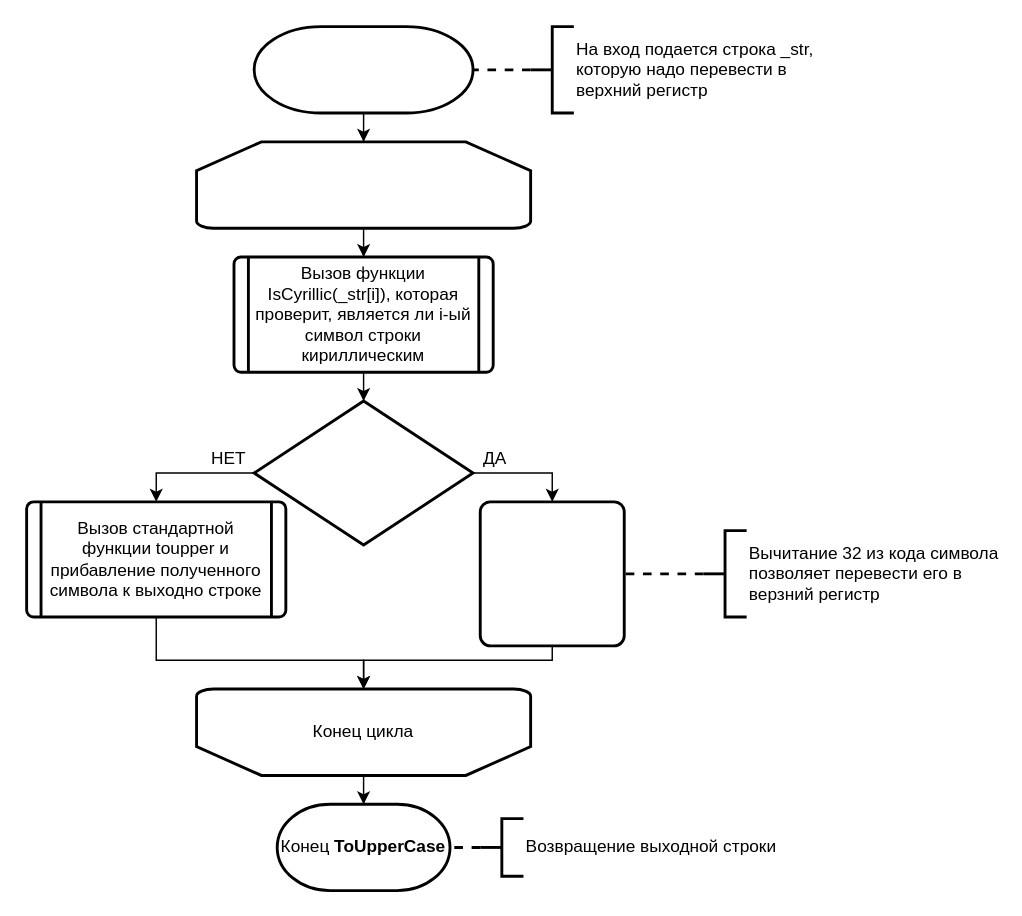
Some shapes in this 1022 by 916 pixel diagram are drawn without their labels. The centre of each missing label's shape, as x and y in pixels:
Добавляем символ с кодом меньшим на 32 к выходной строке: (551,573)
Начало ToUpperCase: (363,69)
Начало цикла, который пройдет по каждому символу в строке _str: (362,184)
Символ кириллический и он в нижнем регистре: (363,472)
